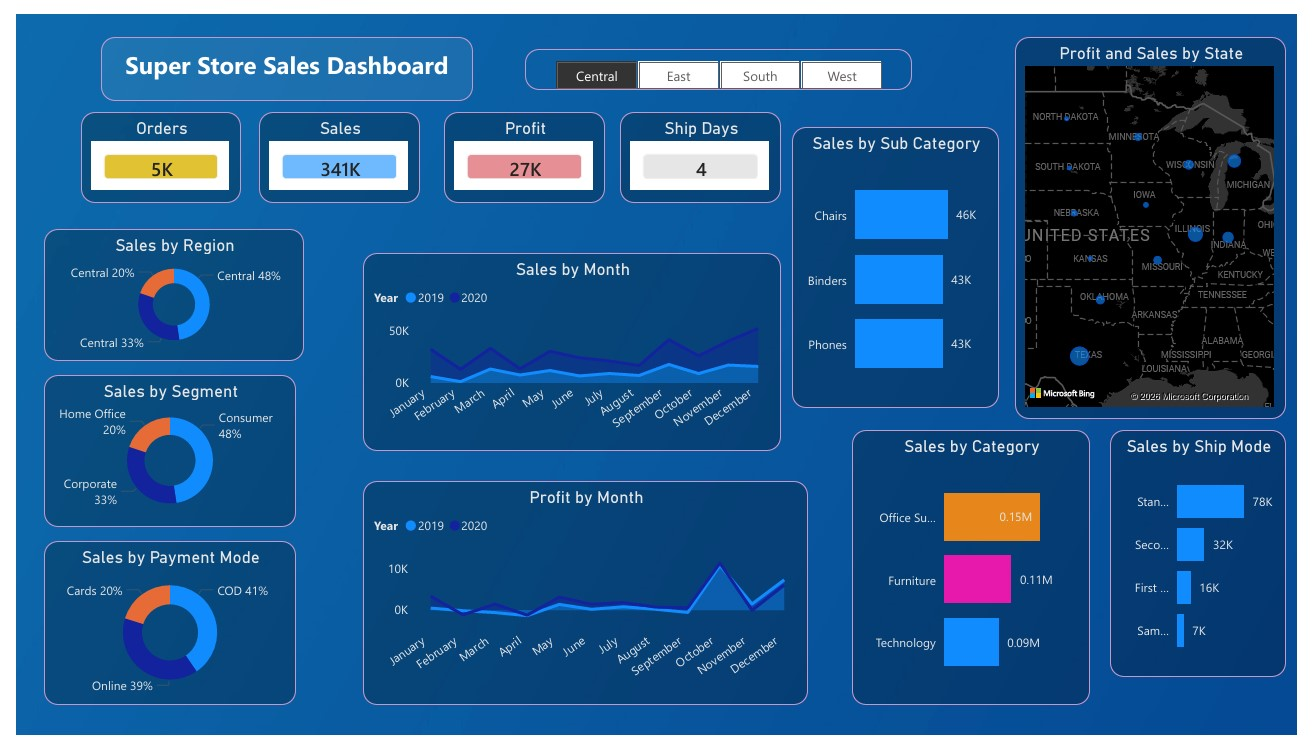

This screenshot's page, from the dashboard's own definition file:
{"tool":"powerbi","page":{"name":"Page 1","canvas":[1280,720],"ordinal":0},"visuals":[{"type":"clusteredBarChart","title":"Sales by Category","fields":{"Category":["SuperStore_Sales_Dataset.Category"],"Y":["Sum(SuperStore_Sales_Dataset.Sales)"]},"box":[834.9,415,237.7,275.1],"z":0},{"type":"barChart","title":"Sales by Sub Category","fields":{"Category":["SuperStore_Sales_Dataset.Sub-Category"],"Y":["Sum(SuperStore_Sales_Dataset.Sales)"]},"box":[774.5,112.2,207.5,281.1],"z":1000},{"type":"barChart","title":"Sales by Ship Mode","fields":{"Category":["SuperStore_Sales_Dataset.Ship Mode"],"Y":["Sum(SuperStore_Sales_Dataset.Sales)"]},"box":[1093,415,176.1,247.3],"z":2000},{"type":"stackedAreaChart","title":"Sales by Month","fields":{"Category":["SuperStore_Sales_Dataset.Order Date.Variation.Date Hierarchy.Month","SuperStore_Sales_Dataset.Order Date.Variation.Date Hierarchy.Day"],"Y":["Sum(SuperStore_Sales_Dataset.Sales)"],"Series":["SuperStore_Sales_Dataset.Order Date.Variation.Date Hierarchy.Year"]},"box":[346.2,237.7,417.4,197.9],"z":3000},{"type":"stackedAreaChart","title":"Profit by Month","fields":{"Category":["SuperStore_Sales_Dataset.Order Date.Variation.Date Hierarchy.Month","SuperStore_Sales_Dataset.Order Date.Variation.Date Hierarchy.Day"],"Series":["SuperStore_Sales_Dataset.Order Date.Variation.Date Hierarchy.Year"],"Y":["Sum(SuperStore_Sales_Dataset.Profit)"]},"box":[346.2,465.7,445.2,224.4],"z":4000},{"type":"map","title":"Profit and Sales by State","fields":{"Category":["SuperStore_Sales_Dataset.State"],"Size":["Sum(SuperStore_Sales_Dataset.Sales)"]},"box":[997.7,21.7,271.4,382.4],"z":5000},{"type":"donutChart","title":" Sales by Segment","fields":{"Category":["SuperStore_Sales_Dataset.Segment"],"Y":["Sum(SuperStore_Sales_Dataset.Sales)"]},"box":[26.5,359.5,252.1,152],"z":6000},{"type":"donutChart","title":"Sales by Payment Mode","fields":{"Category":["SuperStore_Sales_Dataset.Payment Mode"],"Y":["Sum(SuperStore_Sales_Dataset.Sales)"]},"box":[26.5,526,252.1,164.1],"z":7000},{"type":"textbox","box":[84.5,21.7,371.6,63.9],"z":8000},{"type":"cardVisual","title":" Sales","fields":{"Data":["Sum(SuperStore_Sales_Dataset.Sales)"]},"box":[242.5,96.5,160.5,91.7],"z":9000},{"type":"cardVisual","title":" Orders","fields":{"Data":["Sum(SuperStore_Sales_Dataset.Quantity)"]},"box":[63.9,96.5,160.5,91.7],"z":10000},{"type":"cardVisual","title":" Profit","fields":{"Data":["Sum(SuperStore_Sales_Dataset.Profit)"]},"box":[427.1,96.5,160.5,91.7],"z":11000},{"type":"cardVisual","title":" Ship Days","fields":{"Data":["Avg(SuperStore_Sales_Dataset.AverageDelivery)"]},"box":[603.2,96.5,160.5,91.7],"z":12000},{"type":"donutChart","title":"Sales by Region","fields":{"Category":["SuperStore_Sales_Dataset.Segment"],"Y":["Sum(SuperStore_Sales_Dataset.Sales)"],"Series":["SuperStore_Sales_Dataset.Region"]},"box":[26.5,213.5,260.6,132.7],"z":13000},{"type":"slicer","fields":{"Values":["SuperStore_Sales_Dataset.Region"]},"box":[507.9,33.8,387.3,41],"z":14000}]}

Visuals, with their boxes in screenshot pixels (x1, y1, x2, y2), scaled from the page's 1280x720 canvas onto the 1315x750 screenshot:
"Sales by Category" clusteredBarChart: [858,432,1102,719]
"Sales by Sub Category" barChart: [796,117,1009,410]
"Sales by Ship Mode" barChart: [1123,432,1304,690]
"Sales by Month" stackedAreaChart: [356,248,784,454]
"Profit by Month" stackedAreaChart: [356,485,813,719]
"Profit and Sales by State" map: [1025,23,1304,421]
" Sales by Segment" donutChart: [27,374,286,533]
"Sales by Payment Mode" donutChart: [27,548,286,719]
textbox: [87,23,469,89]
" Sales" cardVisual: [249,101,414,196]
" Orders" cardVisual: [66,101,231,196]
" Profit" cardVisual: [439,101,604,196]
" Ship Days" cardVisual: [620,101,785,196]
"Sales by Region" donutChart: [27,222,295,361]
slicer - SuperStore_Sales_Dataset.Region: [522,35,920,78]
